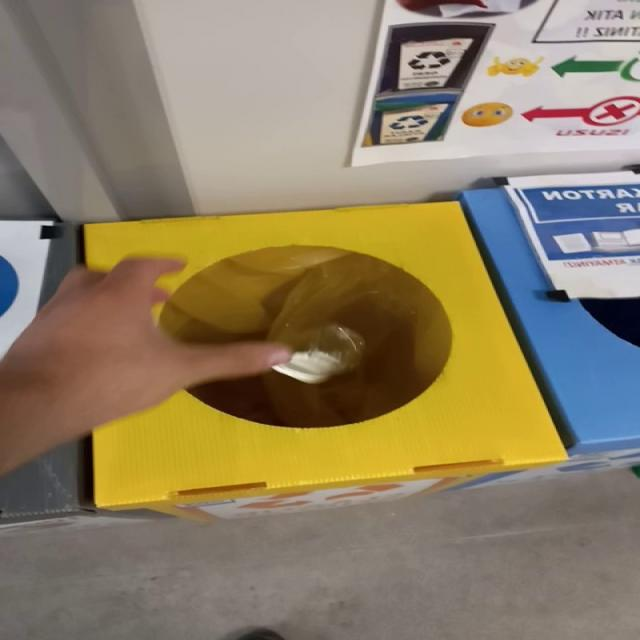plastic: (272, 324, 364, 384)
